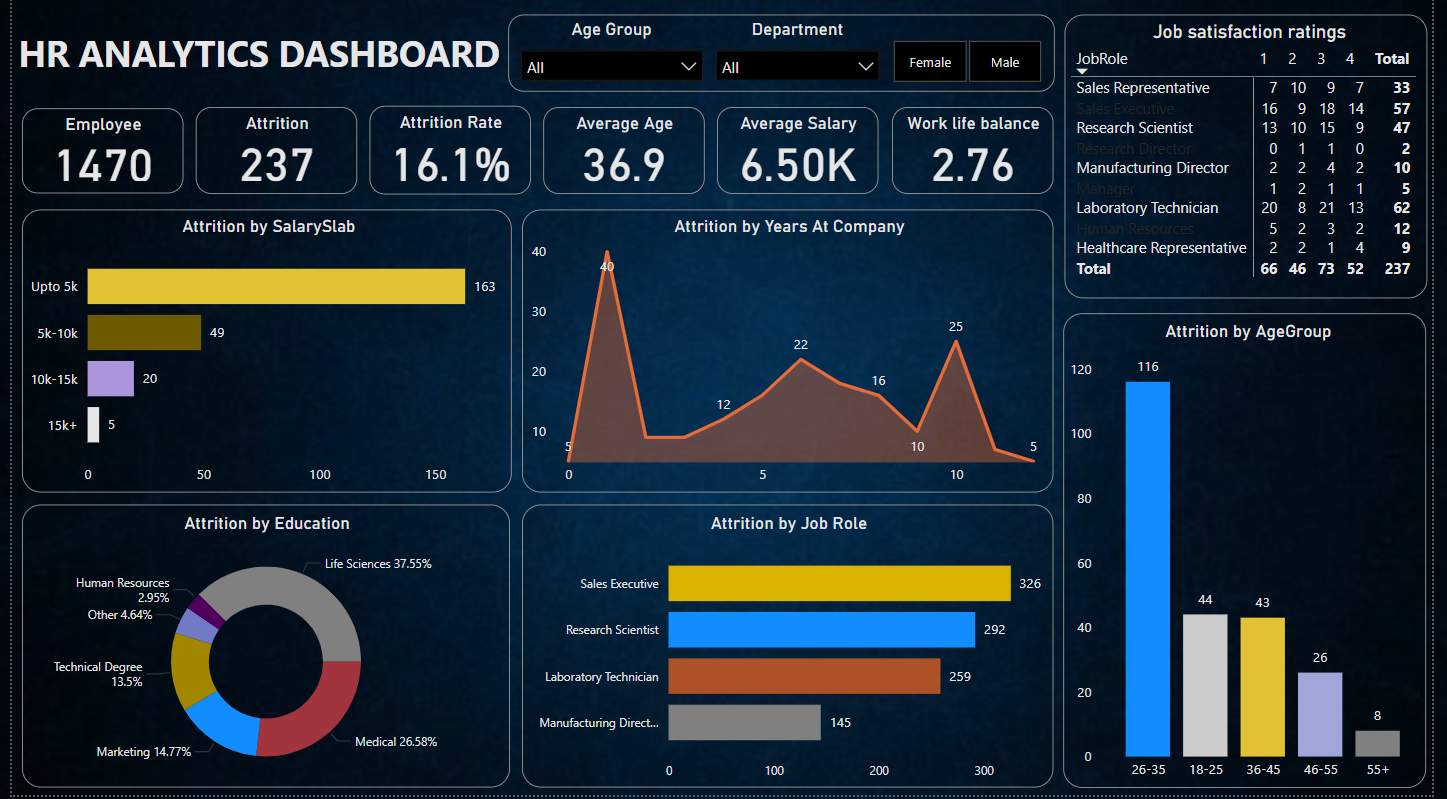

This screenshot's page, from the dashboard's own definition file:
{"tool":"powerbi","page":{"name":"Page 1","canvas":[1280,720],"ordinal":0},"visuals":[{"type":"shape","box":[447.8,16.2,492.6,69.7],"z":0},{"type":"card","title":"Employee","fields":{"Values":["Sum(HR_Analytics.EmployeeCount)"]},"box":[8.7,100.8,145.5,77.1],"z":1000},{"type":"card","title":"Attrition","fields":{"Values":["Sum(HR_Analytics.Attrition count)"]},"box":[165.4,99.5,145.5,78.4],"z":2000},{"type":"card","title":"Attrition Rate","fields":{"Values":["HR_Analytics.Attrition_Rate"]},"box":[322.2,98.3,145.5,79.6],"z":3000},{"type":"card","title":"Average Age","fields":{"Values":["Avg(HR_Analytics.Age)"]},"box":[478.9,99.5,145.5,78.4],"z":4000},{"type":"card","title":"Average Salary","fields":{"Values":["Avg(HR_Analytics.MonthlyIncome)"]},"box":[635.7,99.5,145.5,78.4],"z":5000},{"type":"card","title":"Work life balance","fields":{"Values":["Avg(HR_Analytics.WorkLifeBalance)"]},"box":[793.6,99.5,145.5,78.4],"z":6000},{"type":"donutChart","title":"Attrition by Education","fields":{"Y":["Sum(HR_Analytics.Attrition count)"],"Category":["HR_Analytics.EducationField"]},"box":[8.7,457.8,440.4,255],"z":7000},{"type":"columnChart","title":"Attrition by AgeGroup","fields":{"Category":["HR_Analytics.AgeGroup"],"Y":["Sum(HR_Analytics.Attrition count)"]},"box":[947.9,284.9,327.2,427.9],"z":8000},{"type":"clusteredBarChart","title":"Attrition by SalarySlab","fields":{"Y":["Sum(HR_Analytics.Attrition count)"],"Category":["HR_Analytics.SalarySlab"]},"box":[8.7,191.6,441.6,255],"z":9000},{"type":"barChart","title":"Attrition by Job Role","fields":{"Y":["CountNonNull(HR_Analytics.Attrition count)"],"Category":["HR_Analytics.JobRole"]},"box":[460.3,457.8,478.9,255],"z":10000},{"type":"areaChart","title":"Attrition by Years At Company","fields":{"Y":["Sum(HR_Analytics.Attrition count)"],"Category":["HR_Analytics.TotalWorkingYears"]},"box":[460.3,191.6,478.9,255],"z":11000},{"type":"textbox","box":[0,23.1,445.3,73.4],"z":12000},{"type":"slicer","title":"Department","fields":{"Values":["HR_Analytics.Department"]},"box":[624.9,20.6,167.9,54.7],"z":13000},{"type":"slicer","fields":{"Values":["HR_Analytics.Gender"]},"box":[774.1,36.8,172.9,41.1],"z":14000},{"type":"slicer","title":"Age Group","fields":{"Values":["HR_Analytics.AgeGroup"]},"box":[448.2,20.6,184.1,61],"z":15000},{"type":"pivotTable","title":"Job satisfaction ratings","fields":{"Values":["Sum(HR_Analytics.Attrition count)"],"Rows":["HR_Analytics.JobRole"],"Columns":["HR_Analytics.JobSatisfaction"]},"box":[949.1,16.2,327.2,256.3],"z":16001}]}

Visuals, with their boxes in screenshot pixels (x1, y1, x2, y2), scaled from the page's 1280x720 canvas onto the 1447x799 screenshot:
shape: <bbox>506, 18, 1063, 95</bbox>
"Employee" card: <bbox>10, 112, 174, 197</bbox>
"Attrition" card: <bbox>187, 110, 351, 197</bbox>
"Attrition Rate" card: <bbox>364, 109, 529, 197</bbox>
"Average Age" card: <bbox>541, 110, 706, 197</bbox>
"Average Salary" card: <bbox>719, 110, 883, 197</bbox>
"Work life balance" card: <bbox>897, 110, 1062, 197</bbox>
"Attrition by Education" donutChart: <bbox>10, 508, 508, 791</bbox>
"Attrition by AgeGroup" columnChart: <bbox>1072, 316, 1441, 791</bbox>
"Attrition by SalarySlab" clusteredBarChart: <bbox>10, 213, 509, 496</bbox>
"Attrition by Job Role" barChart: <bbox>520, 508, 1062, 791</bbox>
"Attrition by Years At Company" areaChart: <bbox>520, 213, 1062, 496</bbox>
textbox: <bbox>0, 26, 503, 107</bbox>
"Department" slicer: <bbox>706, 23, 896, 84</bbox>
slicer - HR_Analytics.Gender: <bbox>875, 41, 1071, 86</bbox>
"Age Group" slicer: <bbox>507, 23, 715, 91</bbox>
"Job satisfaction ratings" pivotTable: <bbox>1073, 18, 1443, 302</bbox>
